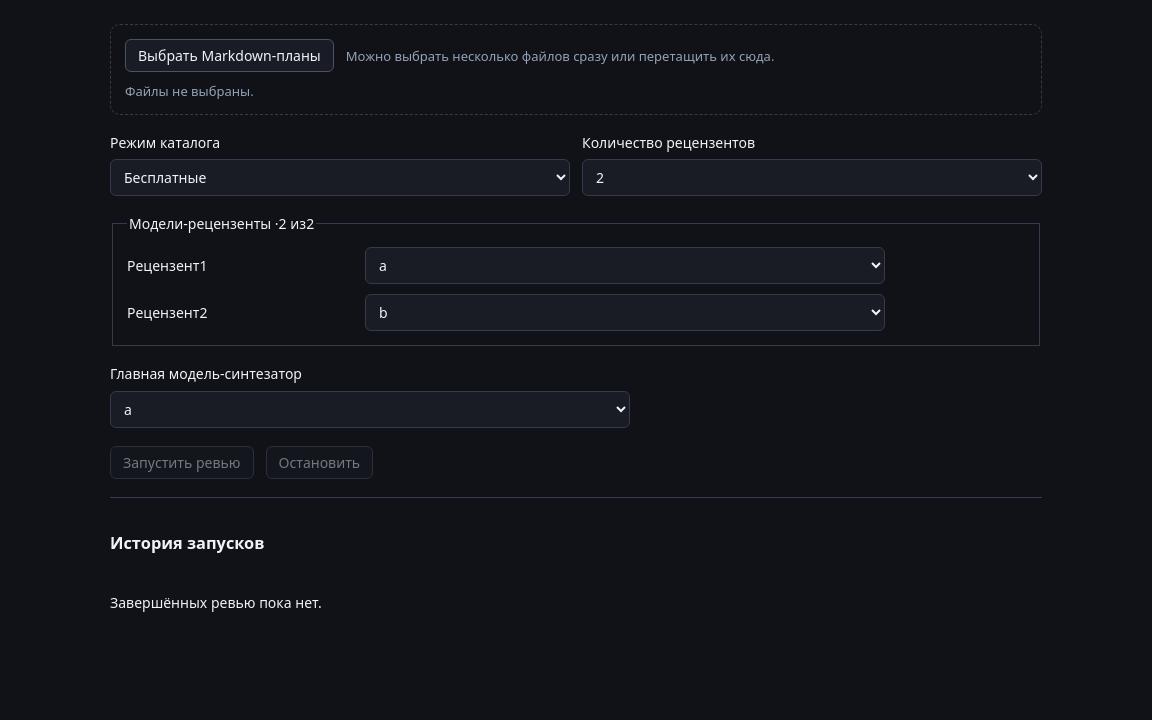
Test case: plan review panel › changes reviewer count from two to eight and creates model slots
Select "8" in the dropdown labelled "Количество рецензентов" at (812, 178), box [582,159,1042,196]
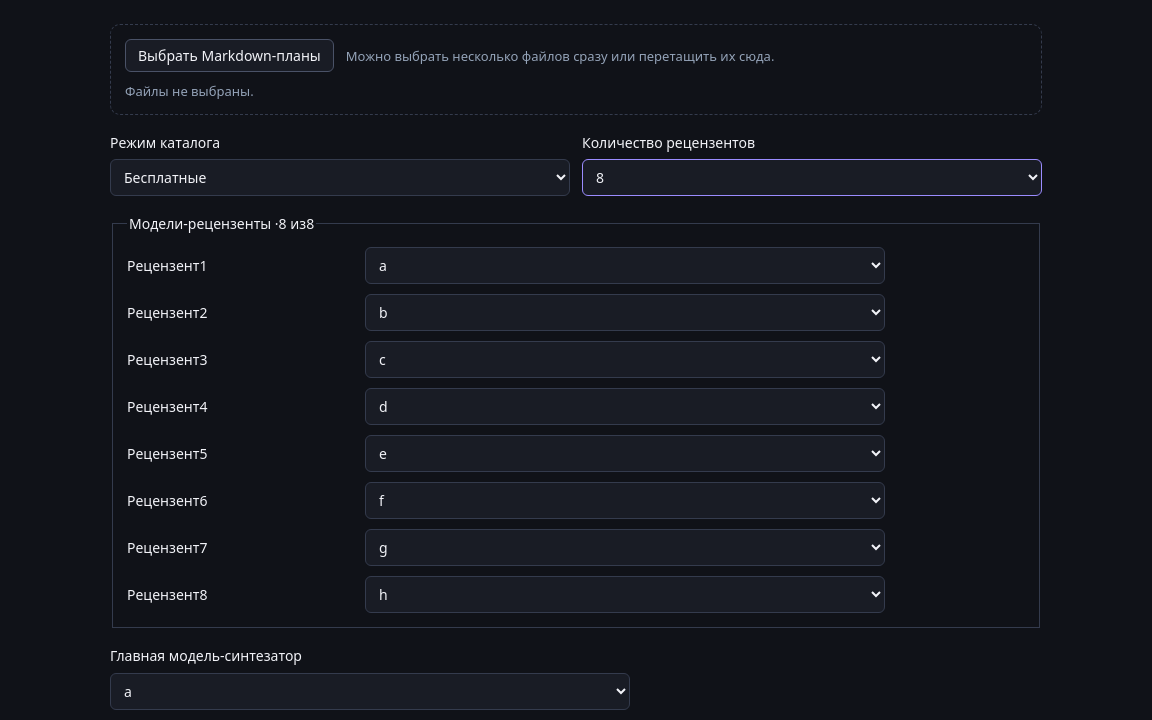
Expected: the number of dropdowns named "Модель рецензента" is 8
